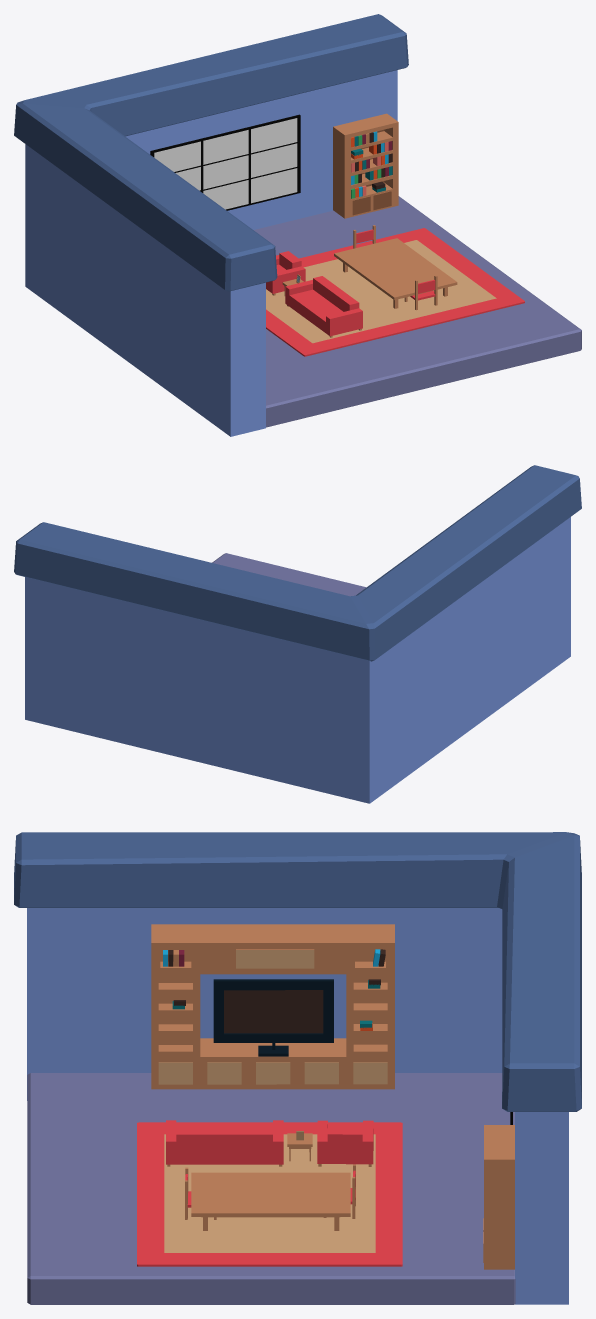
3 renders of one model, top to bottom at view 1: azimuth 30°, elevation 25°; view 2: azimuth 150°, elevation 25°; view 3: azimuth 270°, elevation 25°, orthographic. The views are drawn at different scales.
Parts seen in each view (by area): view 1: Room, Floor, rectangle carpet, Plane.005, Cube, Cube.102, arm chair.001, arm chair; view 2: Room, Floor; view 3: Room, Floor, Cube.103, rectangle carpet, Cube.105, Cube.102, arm chair.001, Cube, arm chair.
Boxes of the visible parts, x1,y1,x2,y2 form: Room: [14, 14, 408, 436]; Floor: [254, 196, 581, 427]; rectangle carpet: [266, 228, 524, 356]; Plane.005: [150, 114, 300, 210]; Cube: [333, 113, 398, 218]; Cube.102: [334, 238, 457, 299]; arm chair.001: [285, 276, 362, 336]; arm chair: [266, 251, 305, 293]; Room: [14, 465, 581, 803]; Floor: [212, 553, 366, 596]; Room: [14, 832, 581, 1304]; Floor: [27, 1073, 515, 1304]; Cube.103: [151, 924, 394, 1089]; rectangle carpet: [137, 1122, 402, 1266]; Cube.105: [213, 979, 333, 1042]; Cube.102: [191, 1172, 350, 1217]; arm chair.001: [166, 1120, 283, 1164]; Cube: [483, 1125, 514, 1269]; arm chair: [317, 1120, 373, 1164].
Bounding box in the file's own units: 19.36 × 9.41 × 19.57.
